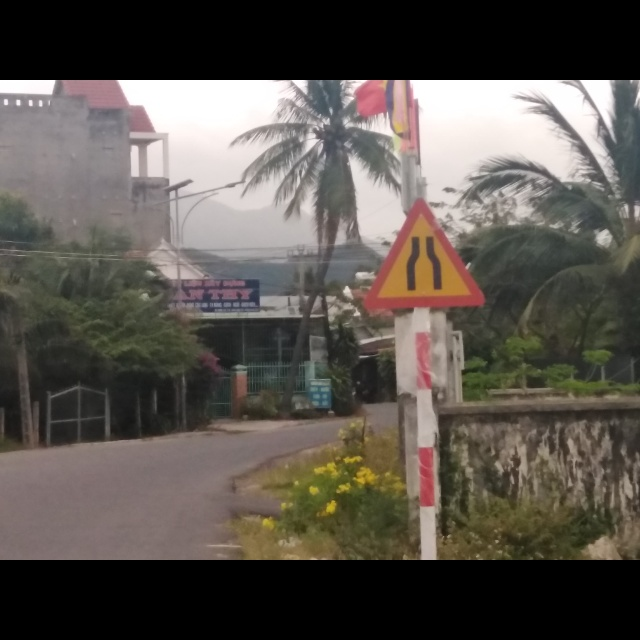Đường bị hẹp cả hai bên: (366, 195, 490, 310)
